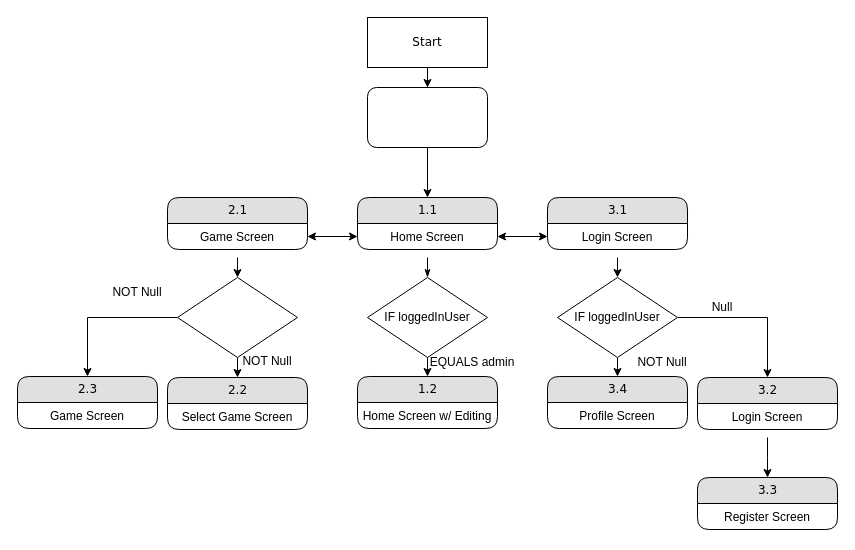
Some shapes in this 855 by 550 pixel diagram are drawn without their labels. Here are the shapes that lost their labels. From the top down, the centre of each, then its label:
point 427,117: App Launch
point 237,317: IF focussedGame
